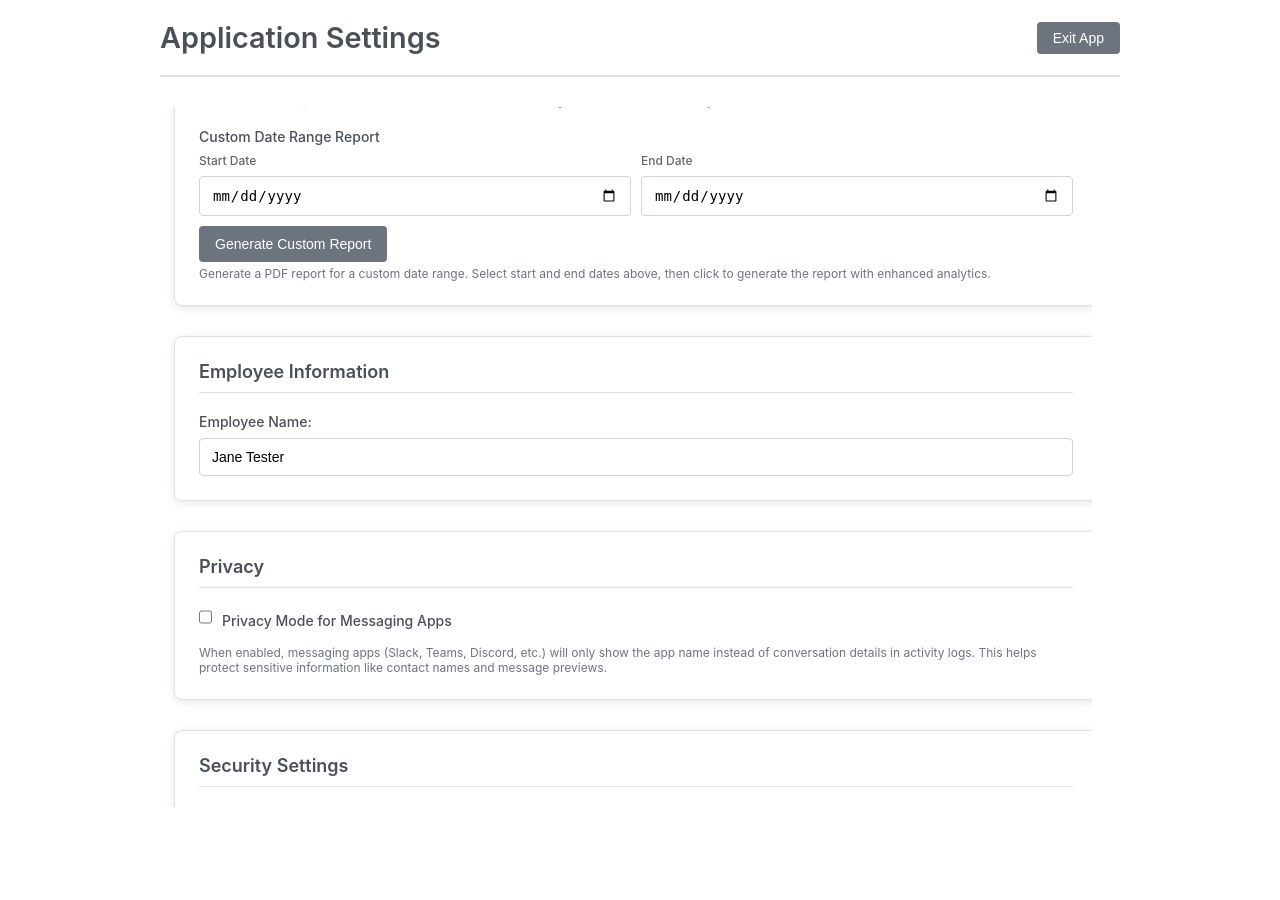
Test case: success and error banners use ARIA live regions and roles (RED)
This screenshot has width=1280, height=900.
(page scrolled)
// Trigger a success toast with a valid value (no digits)
Replace the text in the field labelled "Employee Name:" with "Valid User" at (636, 457), box x1=199 y1=438 x2=1073 y2=476
Wait 600 ms
(page scrolled)
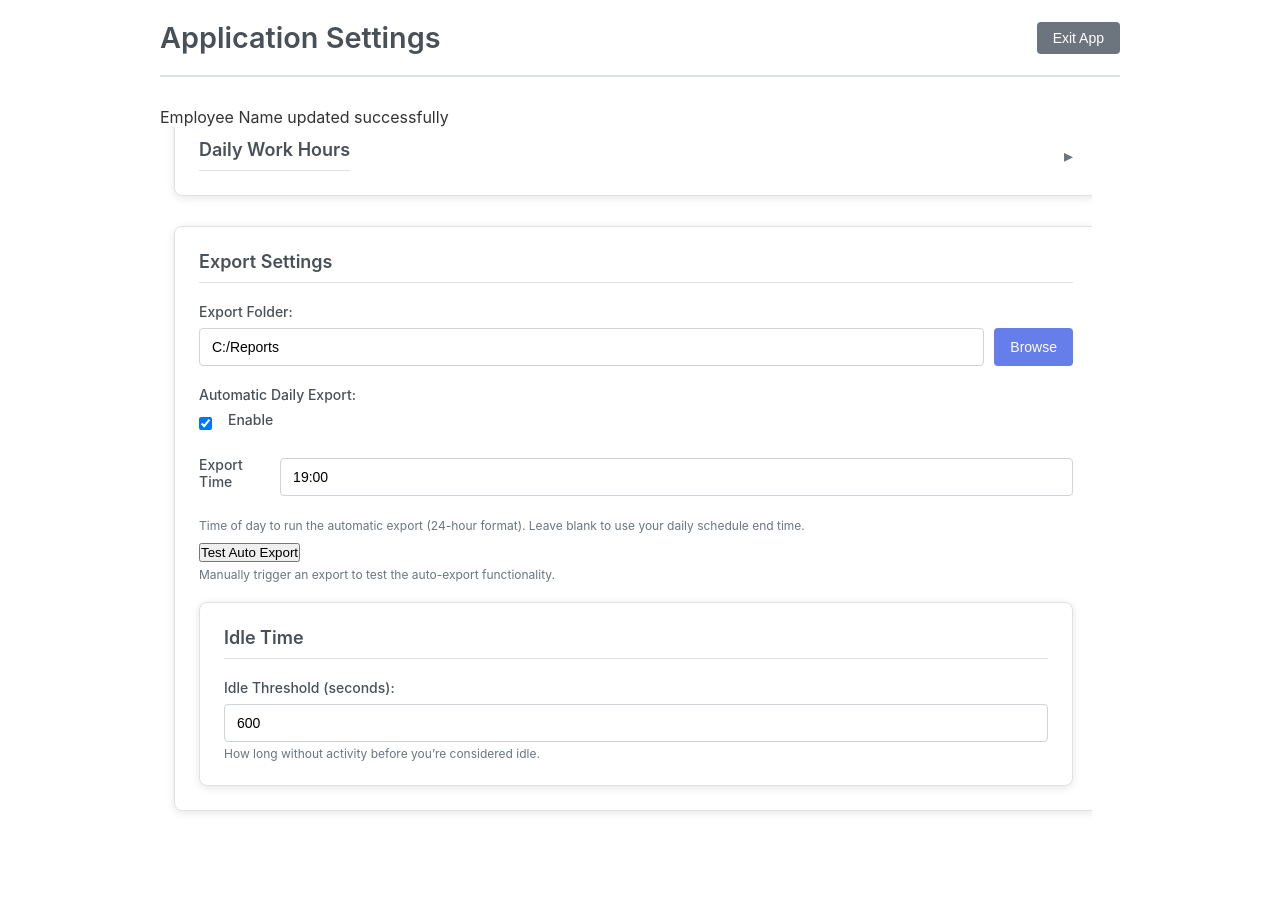
Check: the message shows "updated successfully", box x1=160 y1=107 x2=449 y2=127
Replace the text in the field labelled "Export Time" with "06:05" at (677, 477), box x1=280 y1=458 x2=1073 y2=496
Wait 600 ms
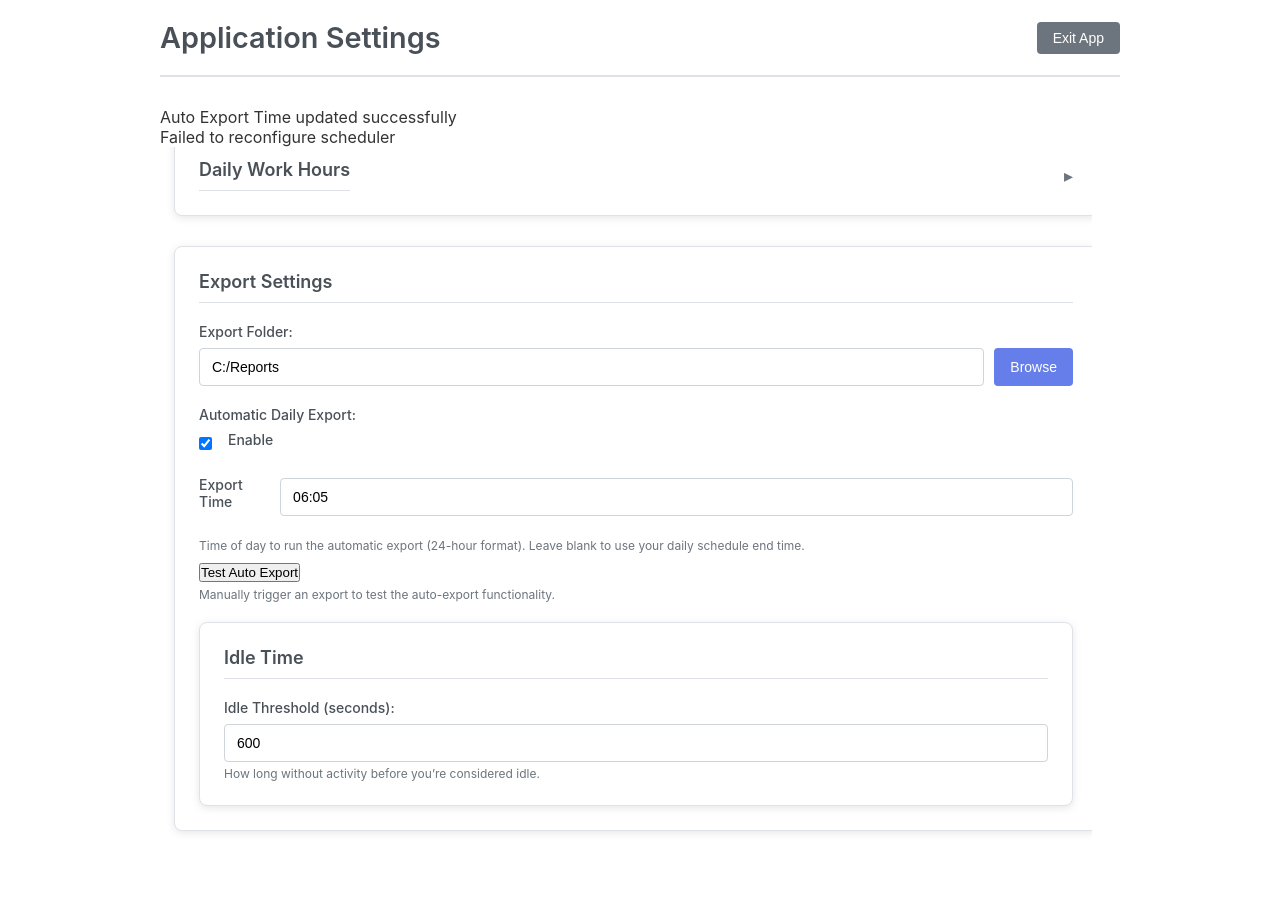
Check: the message "Failed to reconfigure scheduler" is shown, box x1=160 y1=127 x2=395 y2=147
